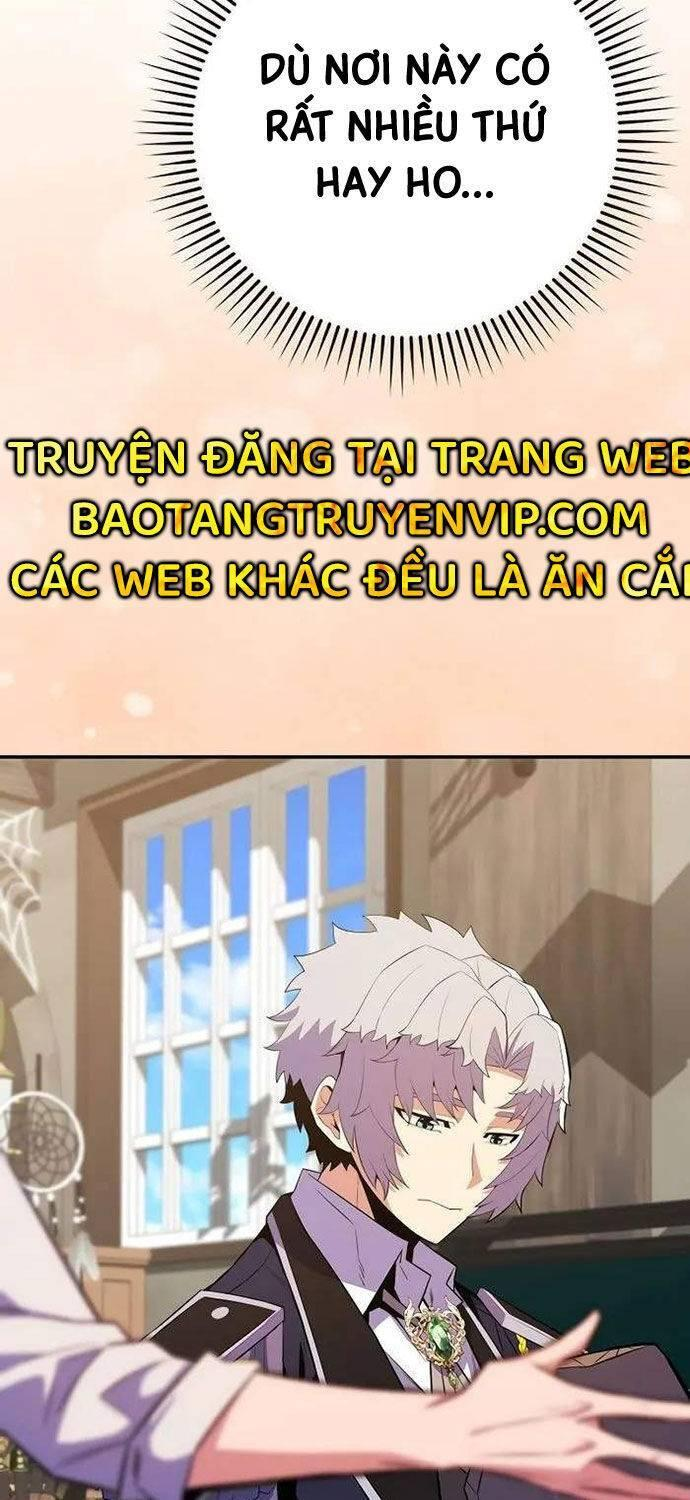quangcao: (0, 422, 690, 618)
